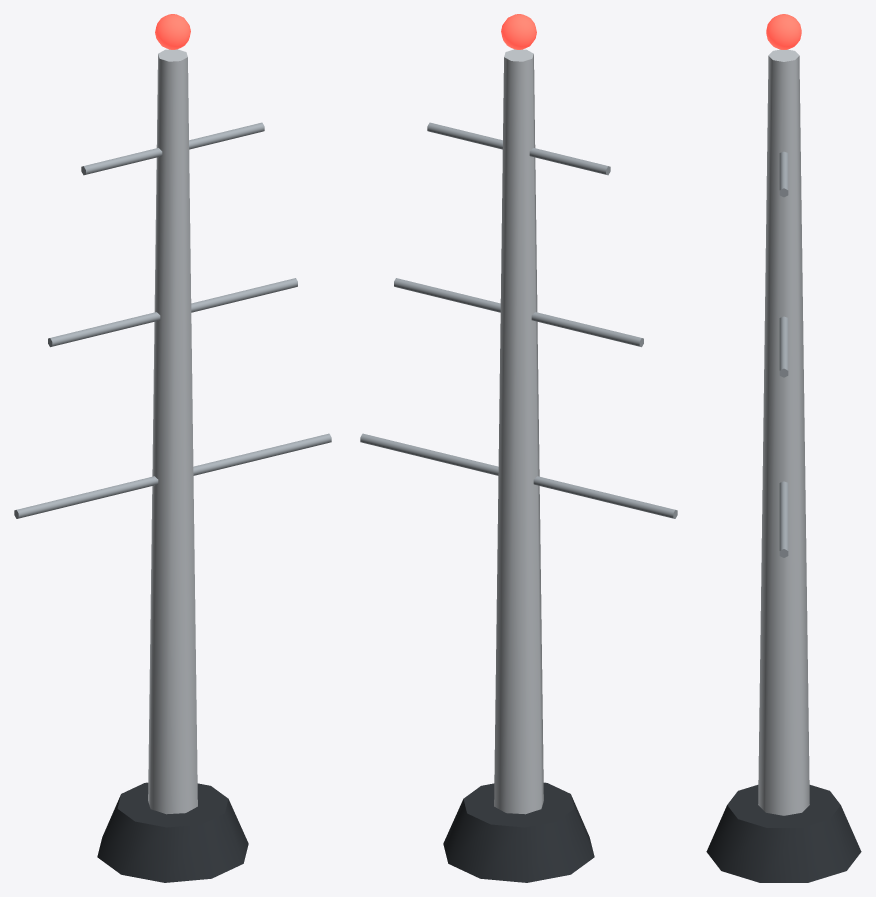
File: antenna-whip.glb
3 renders of one model, left to right at view 1: azimuth 30°, elevation 25°; view 2: azimuth 150°, elevation 25°; view 3: azimuth 270°, elevation 25°, orthographic.
Parts seen in each view (by area): view 1: antenna-whip; view 2: antenna-whip; view 3: antenna-whip.
Boxes of the visible parts, x1,y1,x2,y2 form: antenna-whip: [14, 14, 331, 882]; antenna-whip: [360, 14, 677, 882]; antenna-whip: [706, 14, 861, 882].
Size of the model in its own units: 1.4 by 3.57 by 0.6.
